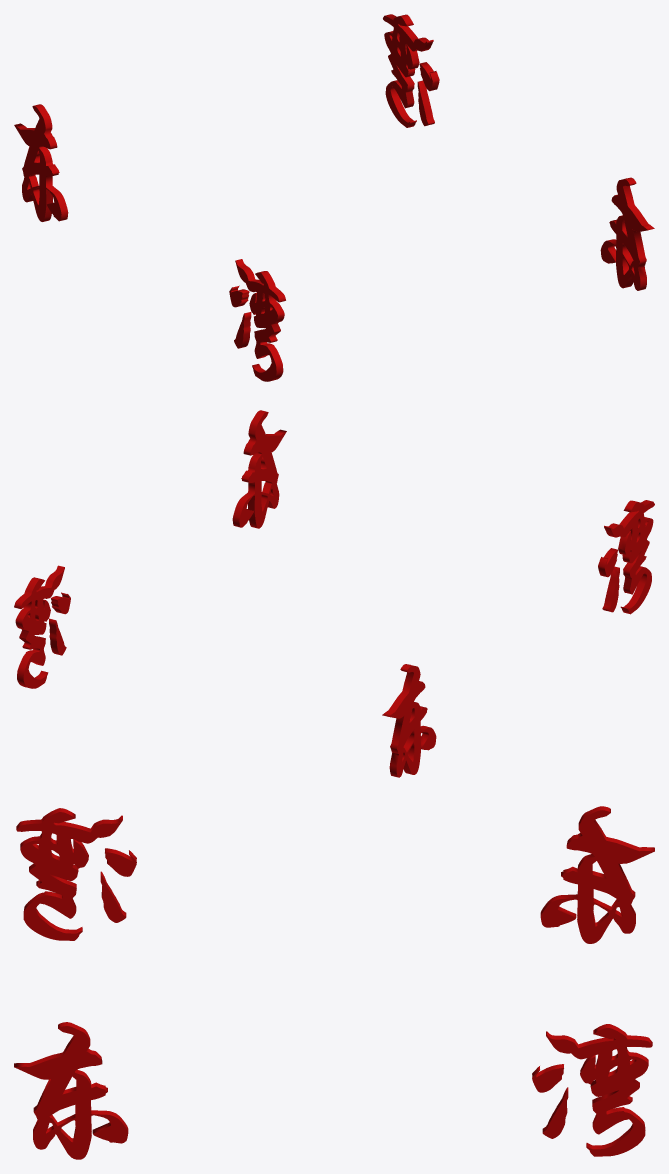
File: Toll_dongwan_name.obj
3 views of the same model, one above another, from view 1: azimuth 30°, elevation 25°; view 2: azimuth 150°, elevation 25°; view 3: azimuth 270°, elevation 25° (orthographic). The views are drawn at different scales.
Parts seen in each view (by area): view 1: Text.002_Mesh.001, Text.001_Mesh.002; view 2: Text.001_Mesh.002, Text.002_Mesh.001; view 3: Text.001_Mesh.002, Text.002_Mesh.001.
Part boxes in pixels (x1,y1,x2,y2): Text.002_Mesh.001: [14, 104, 285, 381]; Text.001_Mesh.002: [383, 14, 654, 290]; Text.001_Mesh.002: [14, 410, 286, 688]; Text.002_Mesh.001: [382, 500, 654, 777]; Text.001_Mesh.002: [14, 1022, 652, 1159]; Text.002_Mesh.001: [16, 806, 654, 943].
Size of the model in its own units: 10.06 by 2.86 by 12.41.
